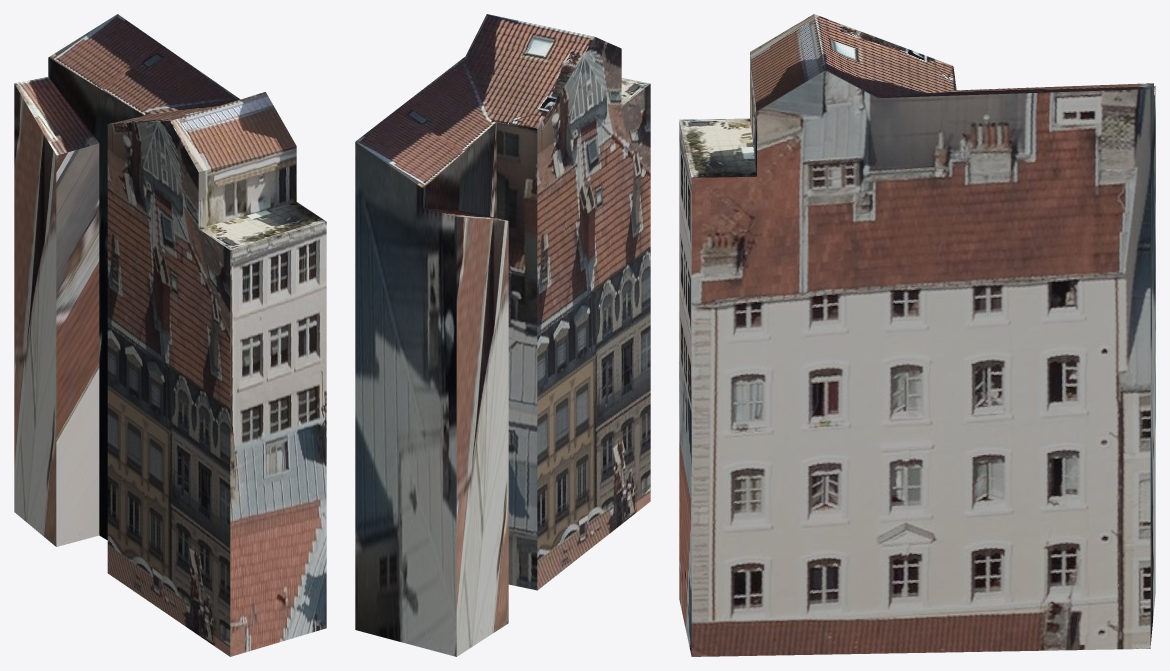
3 views of the same model, side by side, from view 1: azimuth 30°, elevation 25°; view 2: azimuth 150°, elevation 25°; view 3: azimuth 270°, elevation 25° (orthographic). The views are drawn at different scales.
Parts seen in each view (by area): view 1: Z_UP; view 2: Z_UP; view 3: Z_UP.
Boxes of the visible parts, <box> form: Z_UP: <box>14,14,326,656</box>; Z_UP: <box>355,14,650,656</box>; Z_UP: <box>679,14,1155,656</box>.
Size of the model in its own units: 6.61 by 26.22 by 19.38.
2 materials, 1 textured.
